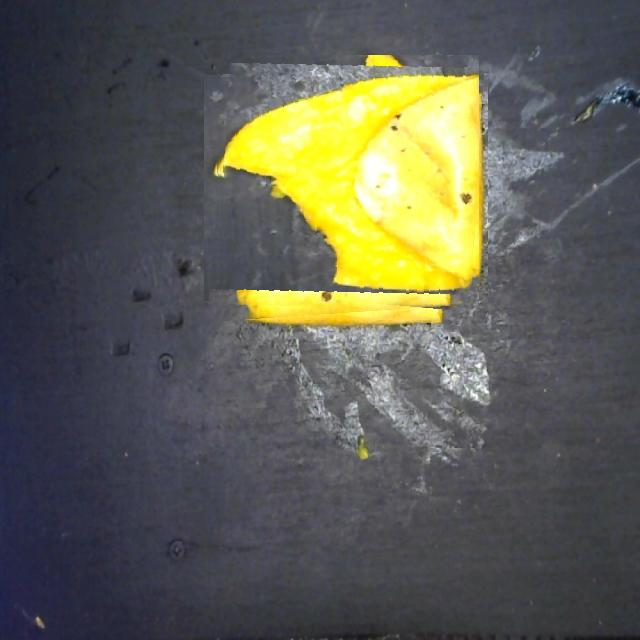biodegradable: (214, 55, 479, 321)
